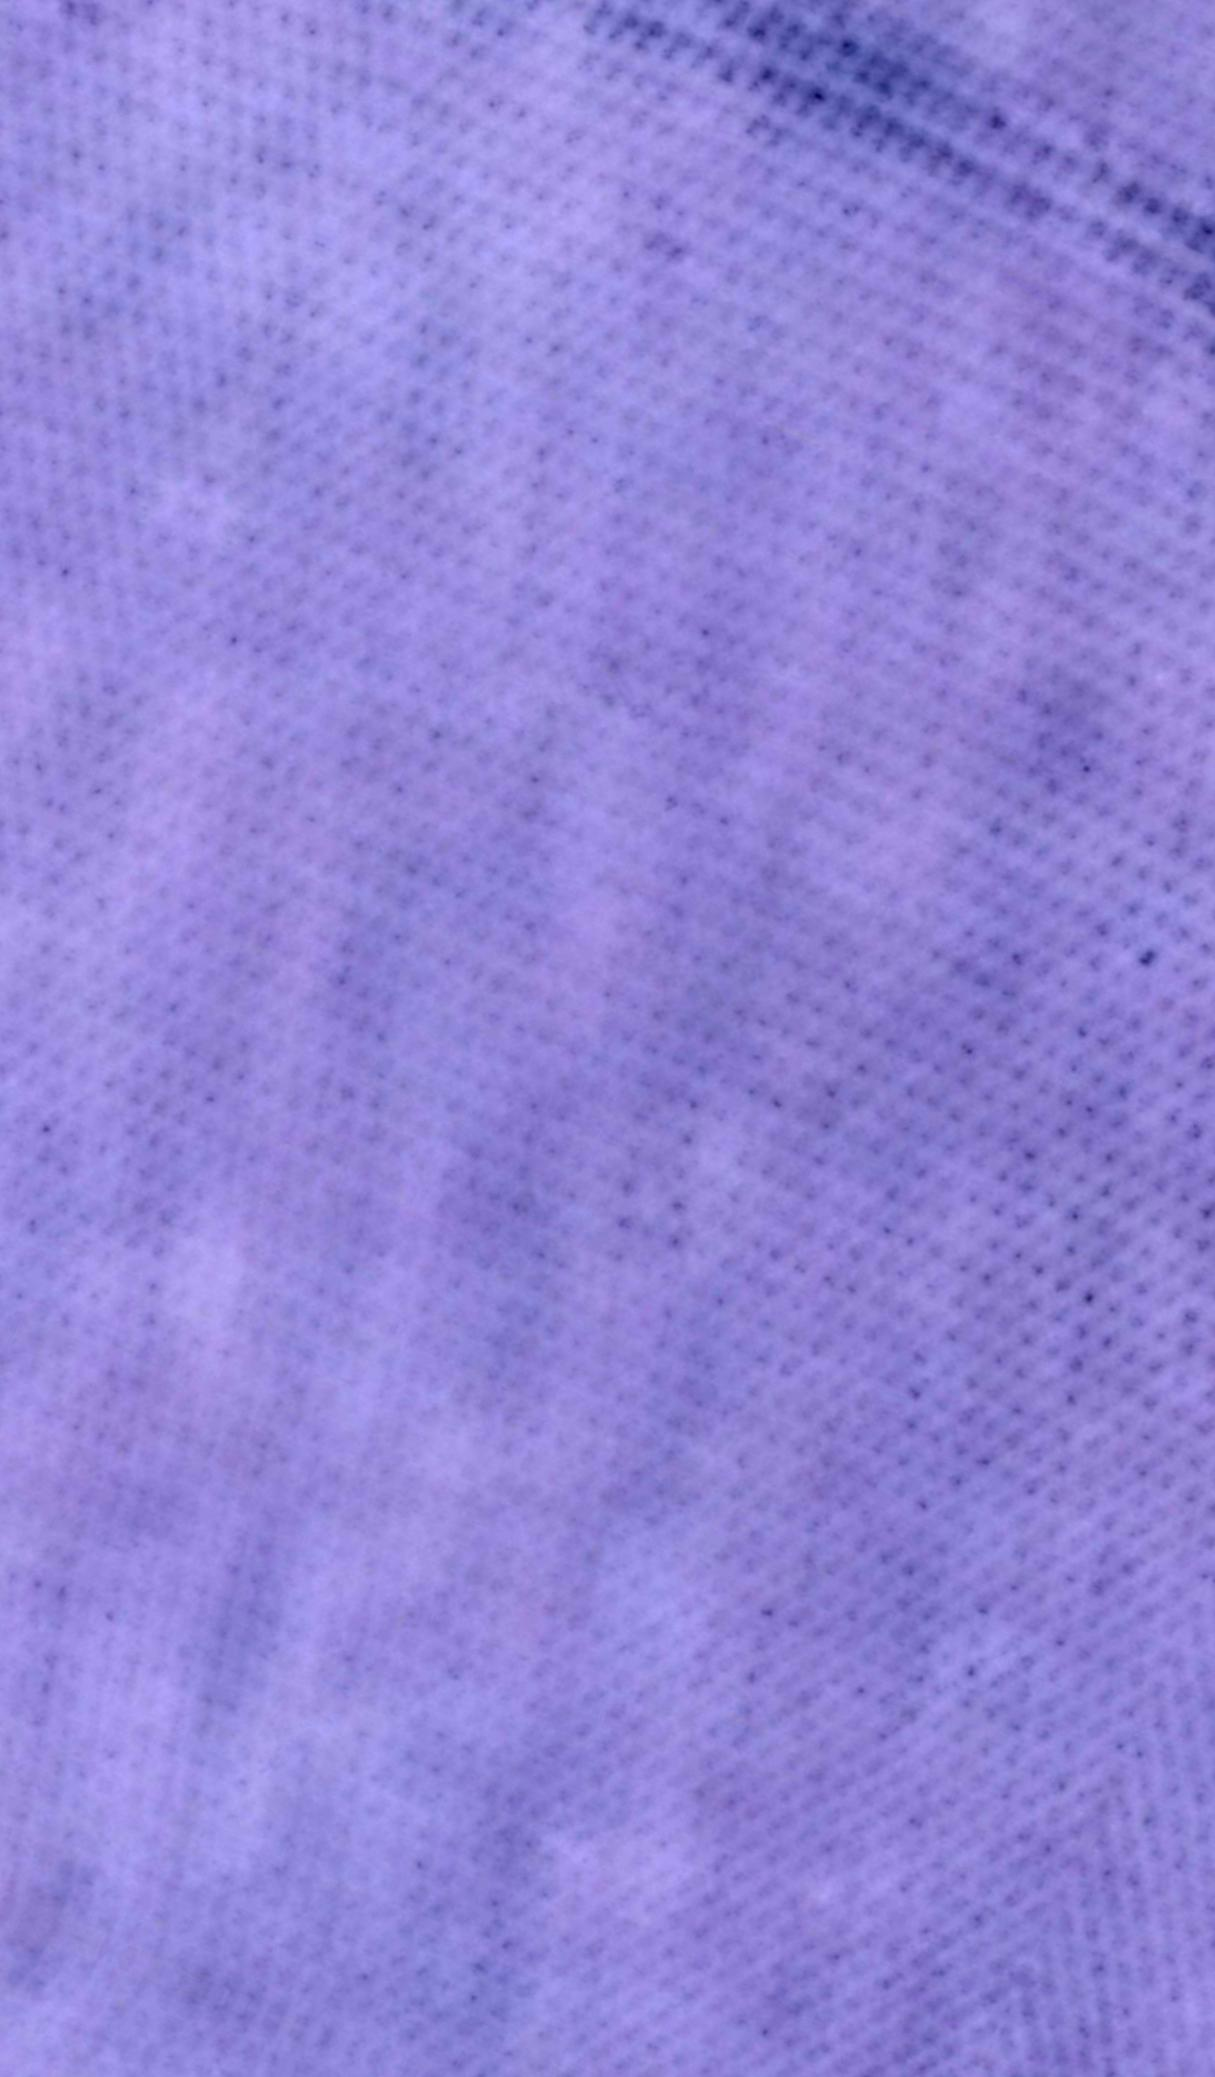slub: (577, 7, 1214, 351)
